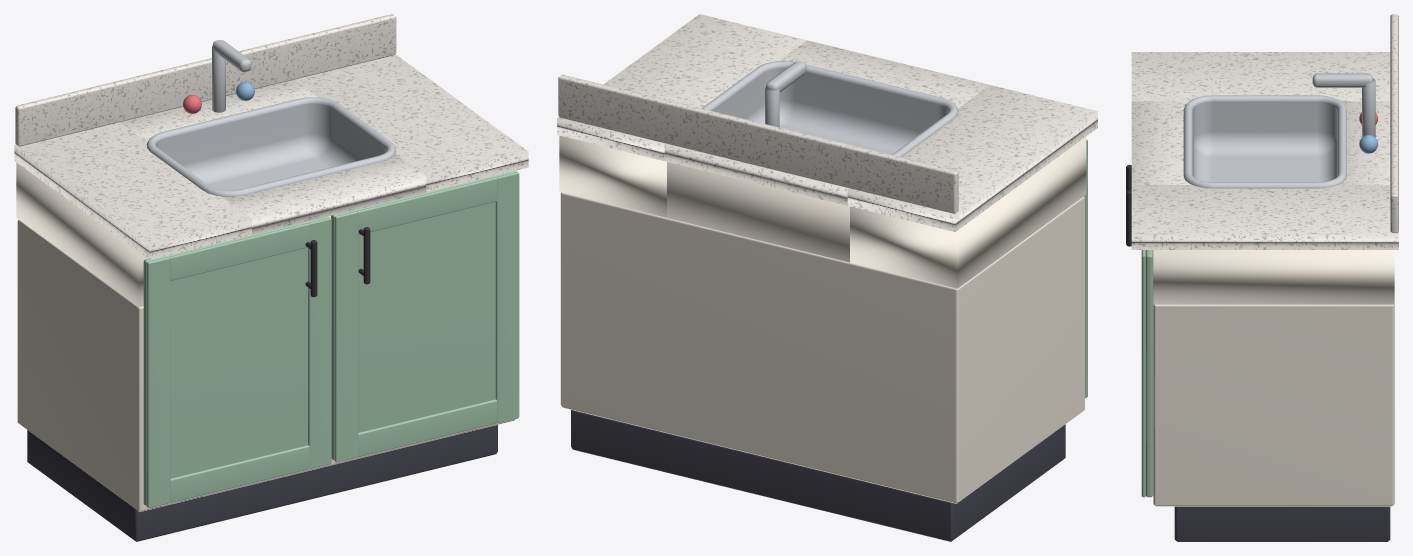
The model's file is prop_counter_sink.glb.
3 renders of one model, left to right at view 1: azimuth 30°, elevation 25°; view 2: azimuth 150°, elevation 25°; view 3: azimuth 270°, elevation 25°, orthographic. The views are drawn at different scales.
Parts seen in each view (by area): view 1: prop_counter_sink; view 2: prop_counter_sink; view 3: prop_counter_sink.
Boxes of the visible parts, x1,y1,x2,y2 form: prop_counter_sink: [14, 14, 528, 541]; prop_counter_sink: [557, 14, 1097, 541]; prop_counter_sink: [1126, 14, 1398, 541].
Size of the model in its own units: 1.25 by 1.22 by 0.7912.
Materials: 8 (1 with a texture image).
